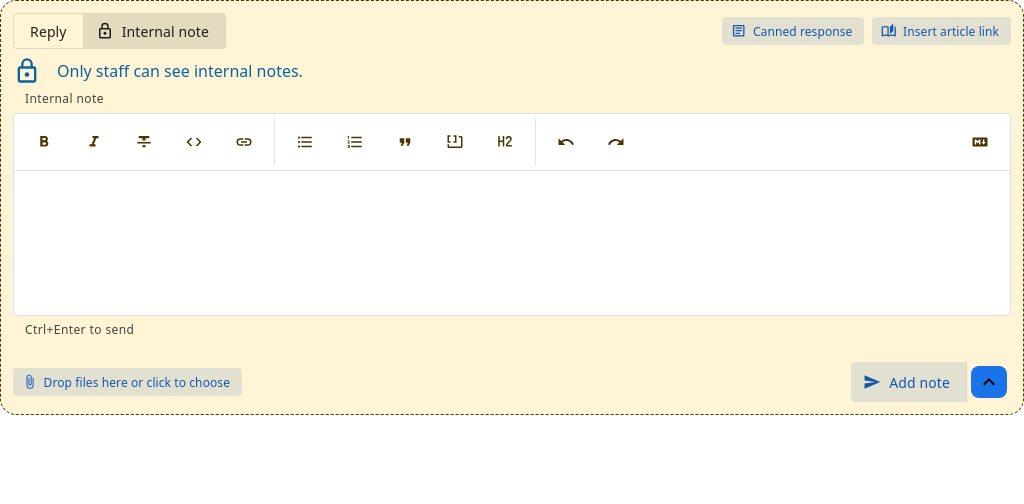
Test: Composer extras (FE-039, FE-052) › @mention suggestions in notes come from the staff directory
Click the button with test id "md-markdown-toggle": (980, 142) x1=960 y1=122 x2=1000 y2=162
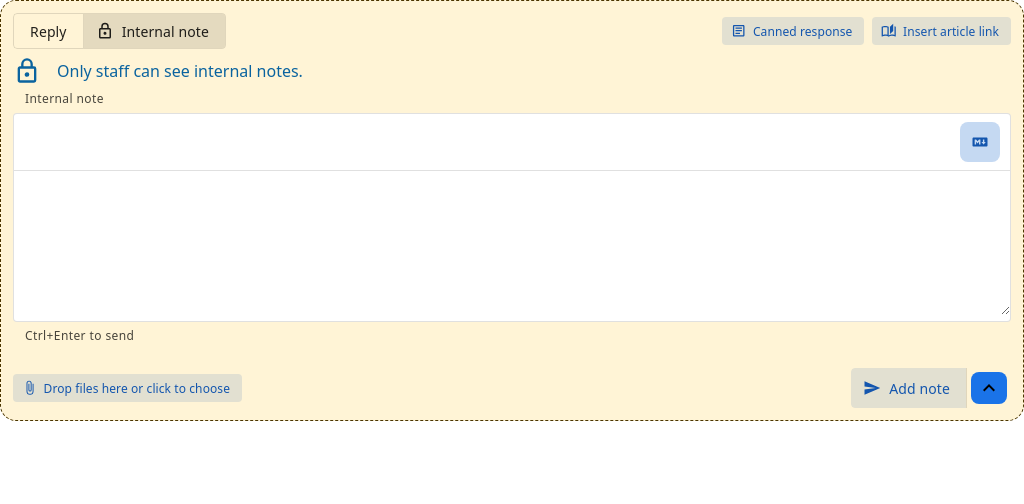
In the text box with test id "md-source": (512, 243) x1=14 y1=171 x2=1010 y2=315, type "ping @Be"
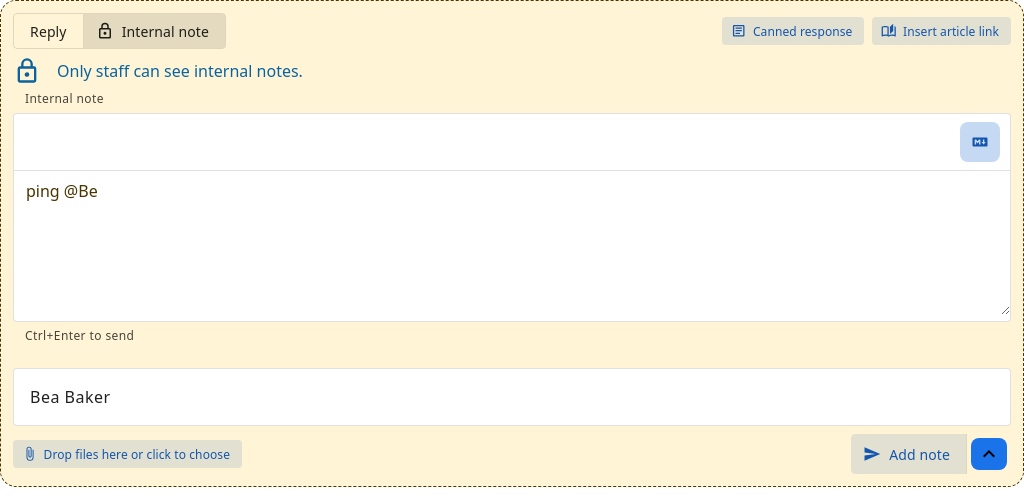
Now the list reads "Bea Baker", box x1=30 y1=386 x2=111 y2=408
